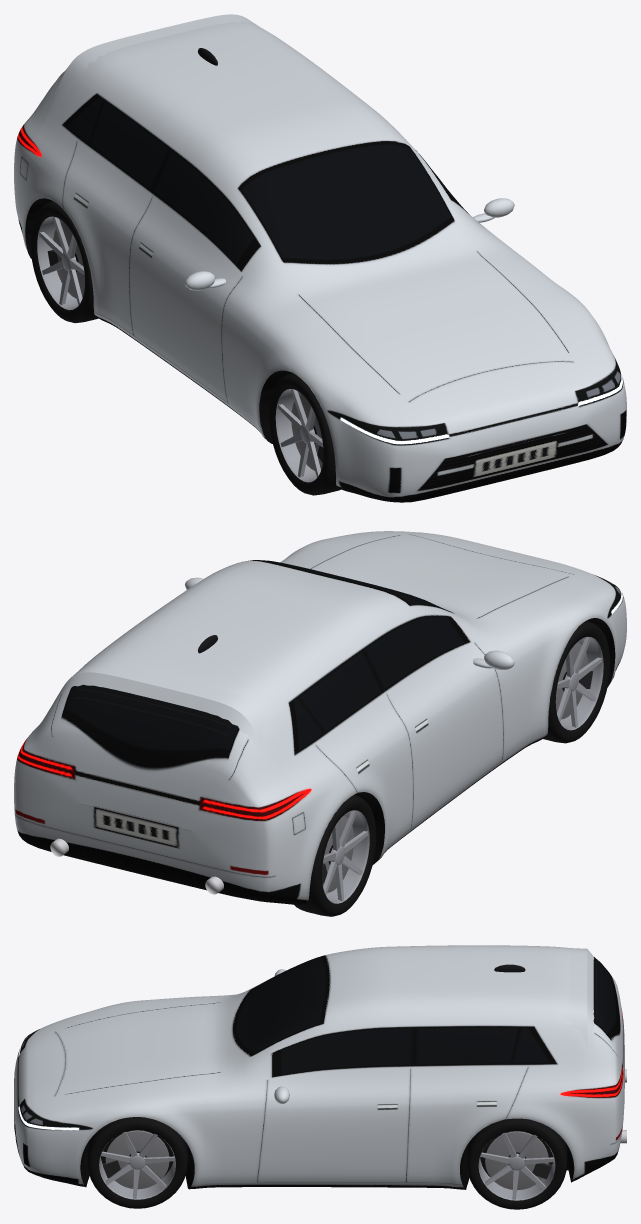
File: car_kestrel.glb
3 views of the same model, one above another, from view 1: azimuth 30°, elevation 25°; view 2: azimuth 150°, elevation 25°; view 3: azimuth 270°, elevation 25° (orthographic). The views are drawn at different scales.
Visible parts, largest first — view 1: Body, Wheel_FR, Wheel_RR; view 2: Body, Wheel_RR, Wheel_FR; view 3: Body, Wheel_FL, Wheel_RL.
Boxes of the visible parts, x1,y1,x2,y2 form: Body: [14, 14, 626, 502]; Wheel_FR: [269, 373, 340, 495]; Wheel_RR: [30, 201, 98, 323]; Body: [14, 531, 626, 904]; Wheel_RR: [294, 795, 376, 916]; Wheel_FR: [543, 620, 610, 743]; Body: [14, 945, 626, 1189]; Wheel_FL: [87, 1117, 187, 1208]; Wheel_RL: [466, 1118, 567, 1209].
Size of the model in its own units: 2.12 by 1.47 by 4.27.
9 materials, 1 textured.
